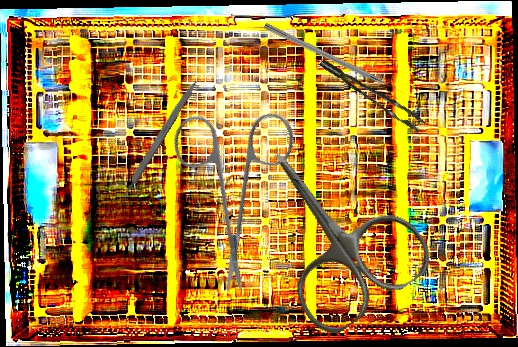Hook Surgical: (263, 21, 408, 99)
Iris Scissors: (119, 68, 350, 298), (221, 113, 440, 343)
Scalpel Handle: (118, 76, 200, 201)
Tissue Forceps: (319, 46, 427, 142)
